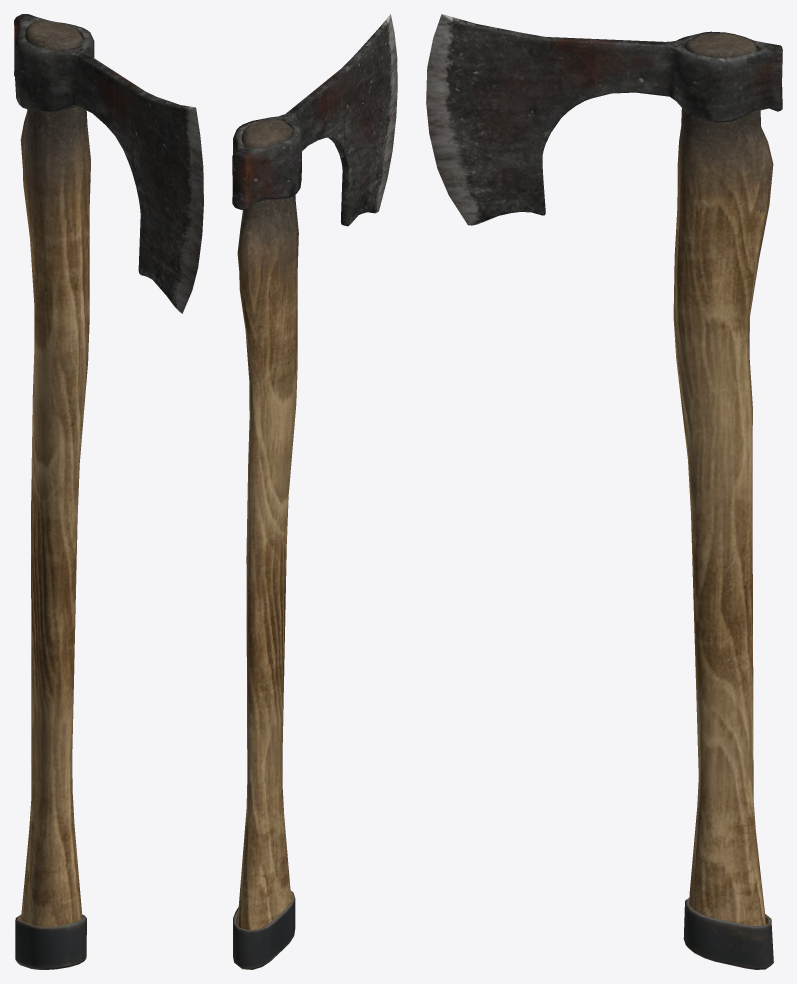
File: wooden_axe.glb
The picture shows the model from 3 angles, left to right: view 1: azimuth 30°, elevation 25°; view 2: azimuth 150°, elevation 25°; view 3: azimuth 270°, elevation 25°; orthographic projection. The views are drawn at different scales.
Parts seen in each view (by area): view 1: wooden_axe; view 2: wooden_axe; view 3: wooden_axe.
Boxes of the visible parts, x1,y1,x2,y2 form: wooden_axe: [14, 14, 203, 969]; wooden_axe: [232, 14, 397, 969]; wooden_axe: [426, 14, 782, 969].
Size of the model in its own units: 0.0472 by 0.6303 by 0.2142.
1 material, 1 textured.
